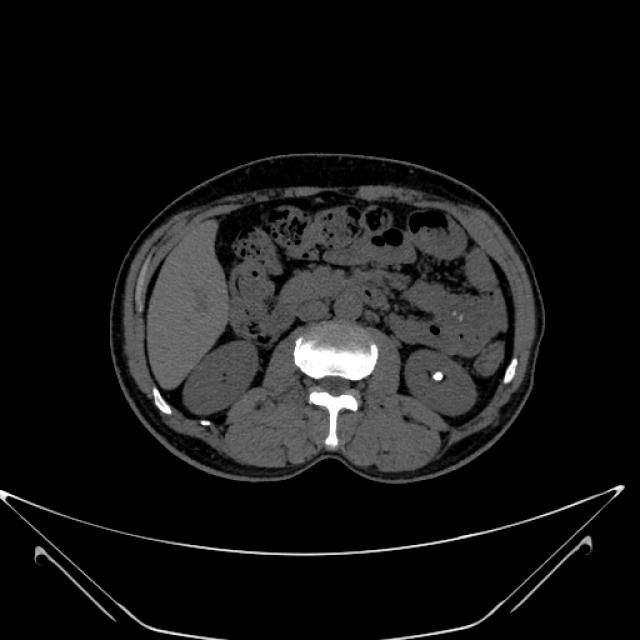kidneystone: (432, 371, 444, 382)
